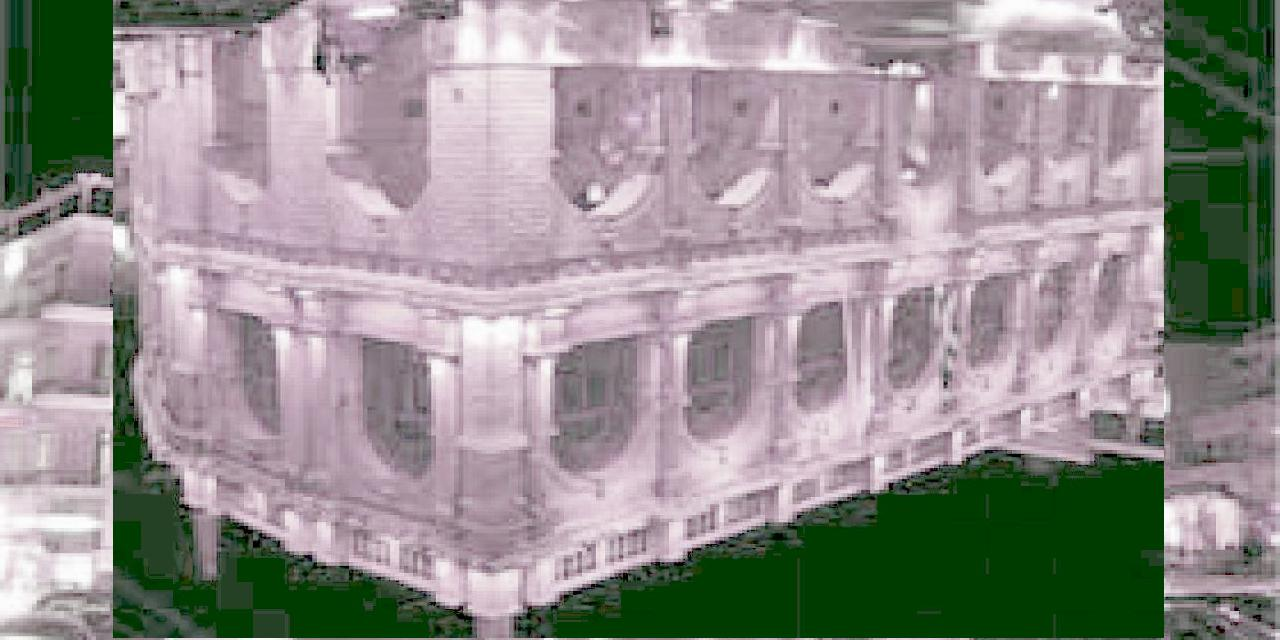Loggia: (114, 1, 1165, 639)
